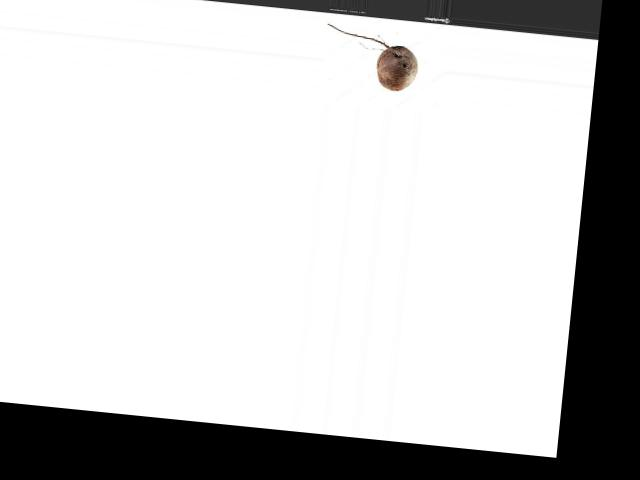beet: (321, 23, 420, 92)
